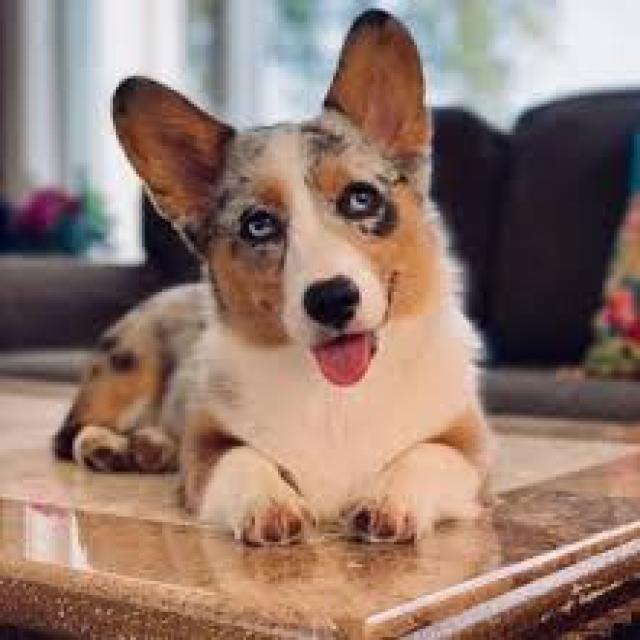CORGI: (32, 10, 514, 555)
